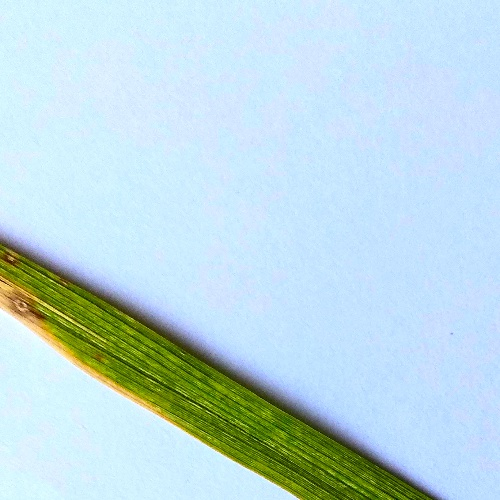Busuk Leher: (2, 283, 44, 328), (2, 241, 25, 270), (56, 274, 76, 290)
